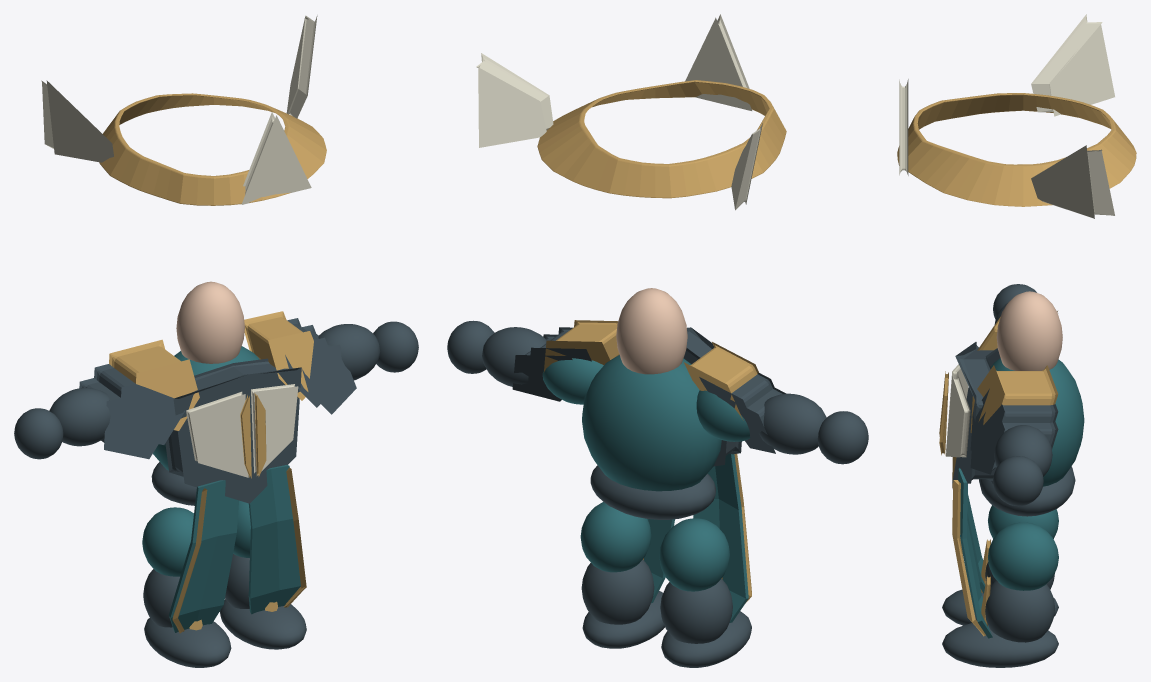
Rendered from knight-oath-v1.glb.
3 views of the same model, side by side, from view 1: azimuth 30°, elevation 25°; view 2: azimuth 150°, elevation 25°; view 3: azimuth 270°, elevation 25° (orthographic). The views are drawn at different scales.
Visible parts, largest first — view 1: TLL_chest, TLL_head, TLL_hips, TLL_upperarmr, TLL_upperarml, TLL_footr, TLL_footl, TLL_upperlegr, TLL_lowerarmr, TLL_lowerarml, TLL_handr, TLL_handl (+3 smaller); view 2: TLL_head, TLL_chest, TLL_hips, TLL_upperarmr, TLL_upperarml, TLL_upperlegr, TLL_upperlegl, TLL_lowerlegl, TLL_lowerlegr, TLL_lowerarmr, TLL_footr, TLL_lowerarml (+3 smaller); view 3: TLL_head, TLL_chest, TLL_upperarml, TLL_hips, TLL_upperlegl, TLL_lowerlegl, TLL_footl, TLL_handl, TLL_lowerarml, TLL_upperlegr, TLL_footr, TLL_handr (+1 smaller).
Boxes of the visible parts, box(x1,y1,x2,y2) form: TLL_chest: box(153, 281, 301, 503); TLL_head: box(41, 15, 326, 205); TLL_hips: box(151, 462, 306, 633); TLL_upperarmr: box(79, 339, 199, 459); TLL_upperarml: box(244, 311, 356, 414); TLL_footr: box(144, 618, 231, 667); TLL_footl: box(219, 599, 306, 649); TLL_upperlegr: box(142, 507, 193, 576); TLL_lowerarmr: box(49, 388, 110, 446); TLL_lowerarml: box(318, 324, 380, 380); TLL_handr: box(14, 408, 63, 459); TLL_handl: box(373, 321, 418, 372); TLL_head: box(476, 14, 786, 210); TLL_chest: box(582, 288, 741, 491); TLL_hips: box(590, 453, 751, 622); TLL_upperarmr: box(683, 342, 785, 453); TLL_upperarml: box(512, 320, 619, 404); TLL_upperlegr: box(659, 518, 729, 591); TLL_upperlegl: box(580, 502, 651, 572); TLL_lowerlegl: box(581, 558, 654, 624); TLL_lowerlegr: box(660, 577, 732, 643); TLL_lowerarmr: box(759, 393, 826, 454); TLL_footr: box(661, 611, 751, 667); TLL_lowerarml: box(482, 327, 546, 386); TLL_head: box(897, 14, 1136, 218); TLL_chest: box(939, 291, 1084, 486); TLL_upperarml: box(970, 365, 1058, 474); TLL_hips: box(952, 457, 1075, 638); TLL_upperlegl: box(988, 522, 1058, 590); TLL_lowerlegl: box(981, 576, 1055, 642); TLL_footl: box(942, 623, 1058, 667); TLL_handl: box(993, 456, 1043, 506); TLL_lowerarml: box(994, 425, 1052, 476); TLL_upperlegr: box(988, 505, 1058, 538); TLL_footr: box(942, 589, 1058, 625); TLL_handr: box(993, 284, 1036, 319).
Bounding box in the file's own units: 1.79 × 2.45 × 0.9402.
